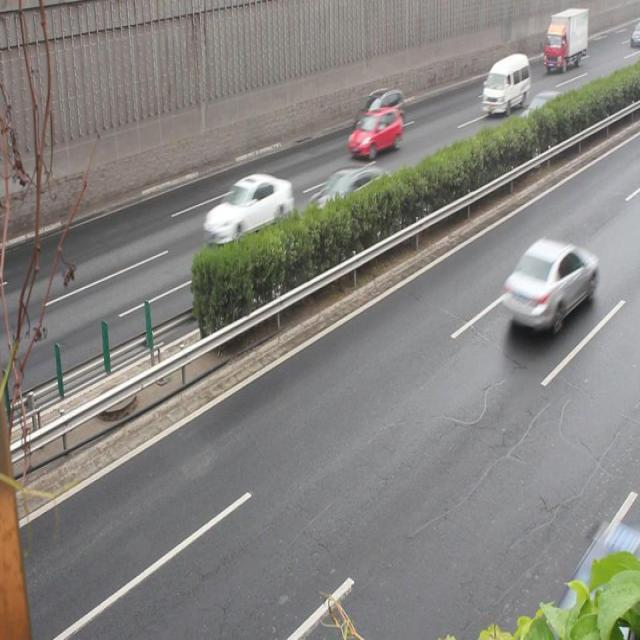car: (501, 237, 595, 330), (304, 166, 393, 244), (202, 173, 292, 248), (346, 106, 400, 158), (518, 90, 570, 143), (353, 89, 405, 134)
truck: (480, 52, 528, 115)
